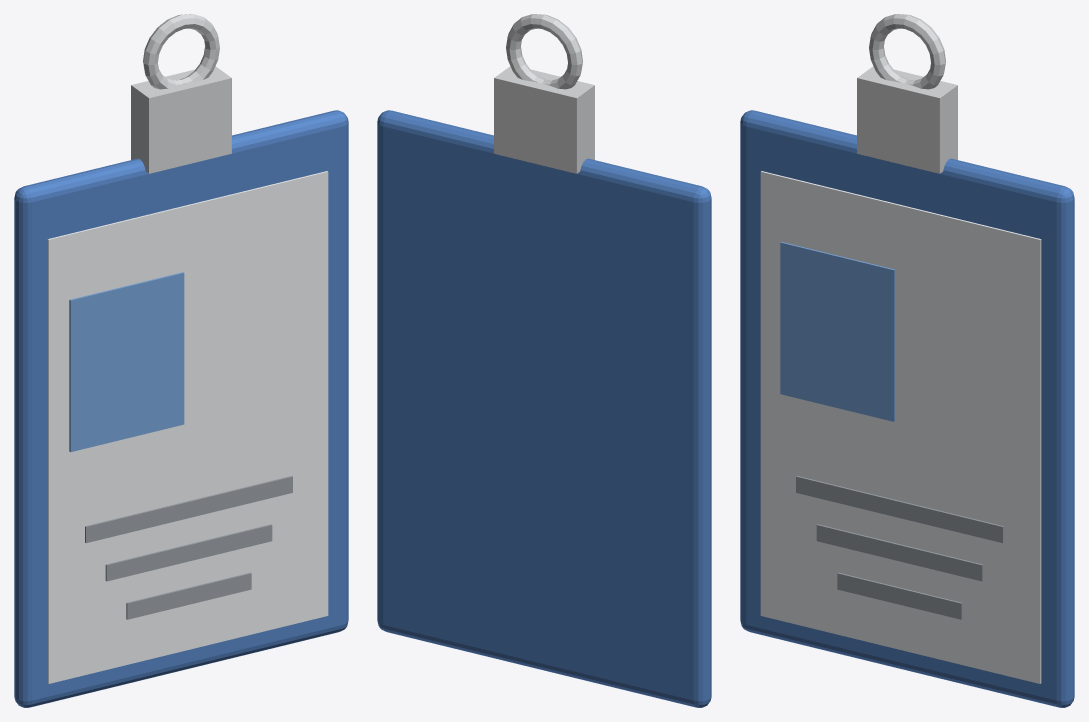
File: Badge.fbx
3 renders of one model, left to right at view 1: azimuth 30°, elevation 25°; view 2: azimuth 150°, elevation 25°; view 3: azimuth 330°, elevation 25°, orthographic.
Visible parts, largest first — view 1: Badge_Card, Badge_Holder, Badge_Photo, Badge_Clip, Badge_Line0, Badge_Line1, Badge_Ring, Badge_Line2; view 2: Badge_Holder, Badge_Clip, Badge_Ring; view 3: Badge_Card, Badge_Holder, Badge_Photo, Badge_Clip, Badge_Line0, Badge_Line1, Badge_Ring, Badge_Line2.
Part boxes in pixels (left/top/right/bottom): Badge_Card: left=47, top=171, right=328, bottom=683; Badge_Holder: left=14, top=110, right=348, bottom=707; Badge_Photo: left=69, top=272, right=184, bottom=452; Badge_Clip: left=131, top=66, right=231, bottom=173; Badge_Line0: left=85, top=476, right=292, bottom=543; Badge_Line1: left=105, top=524, right=272, bottom=581; Badge_Ring: left=143, top=14, right=219, bottom=89; Badge_Line2: left=126, top=572, right=251, bottom=619; Badge_Holder: left=377, top=110, right=711, bottom=707; Badge_Clip: left=494, top=66, right=594, bottom=173; Badge_Ring: left=506, top=14, right=582, bottom=89; Badge_Card: left=760, top=171, right=1041, bottom=683; Badge_Holder: left=740, top=110, right=1074, bottom=707; Badge_Photo: left=780, top=242, right=895, bottom=421; Badge_Clip: left=857, top=66, right=957, bottom=173; Badge_Line0: left=796, top=476, right=1003, bottom=543; Badge_Line1: left=816, top=524, right=983, bottom=581; Badge_Ring: left=869, top=14, right=945, bottom=89; Badge_Line2: left=837, top=572, right=962, bottom=619.
Bounding box in the file's own units: 0.064 × 0.1208 × 0.006.
